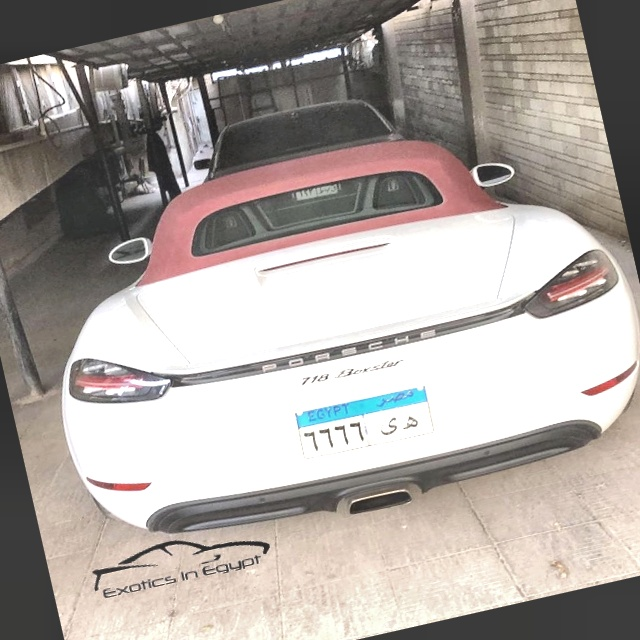License Plate: (291, 382, 437, 464)
